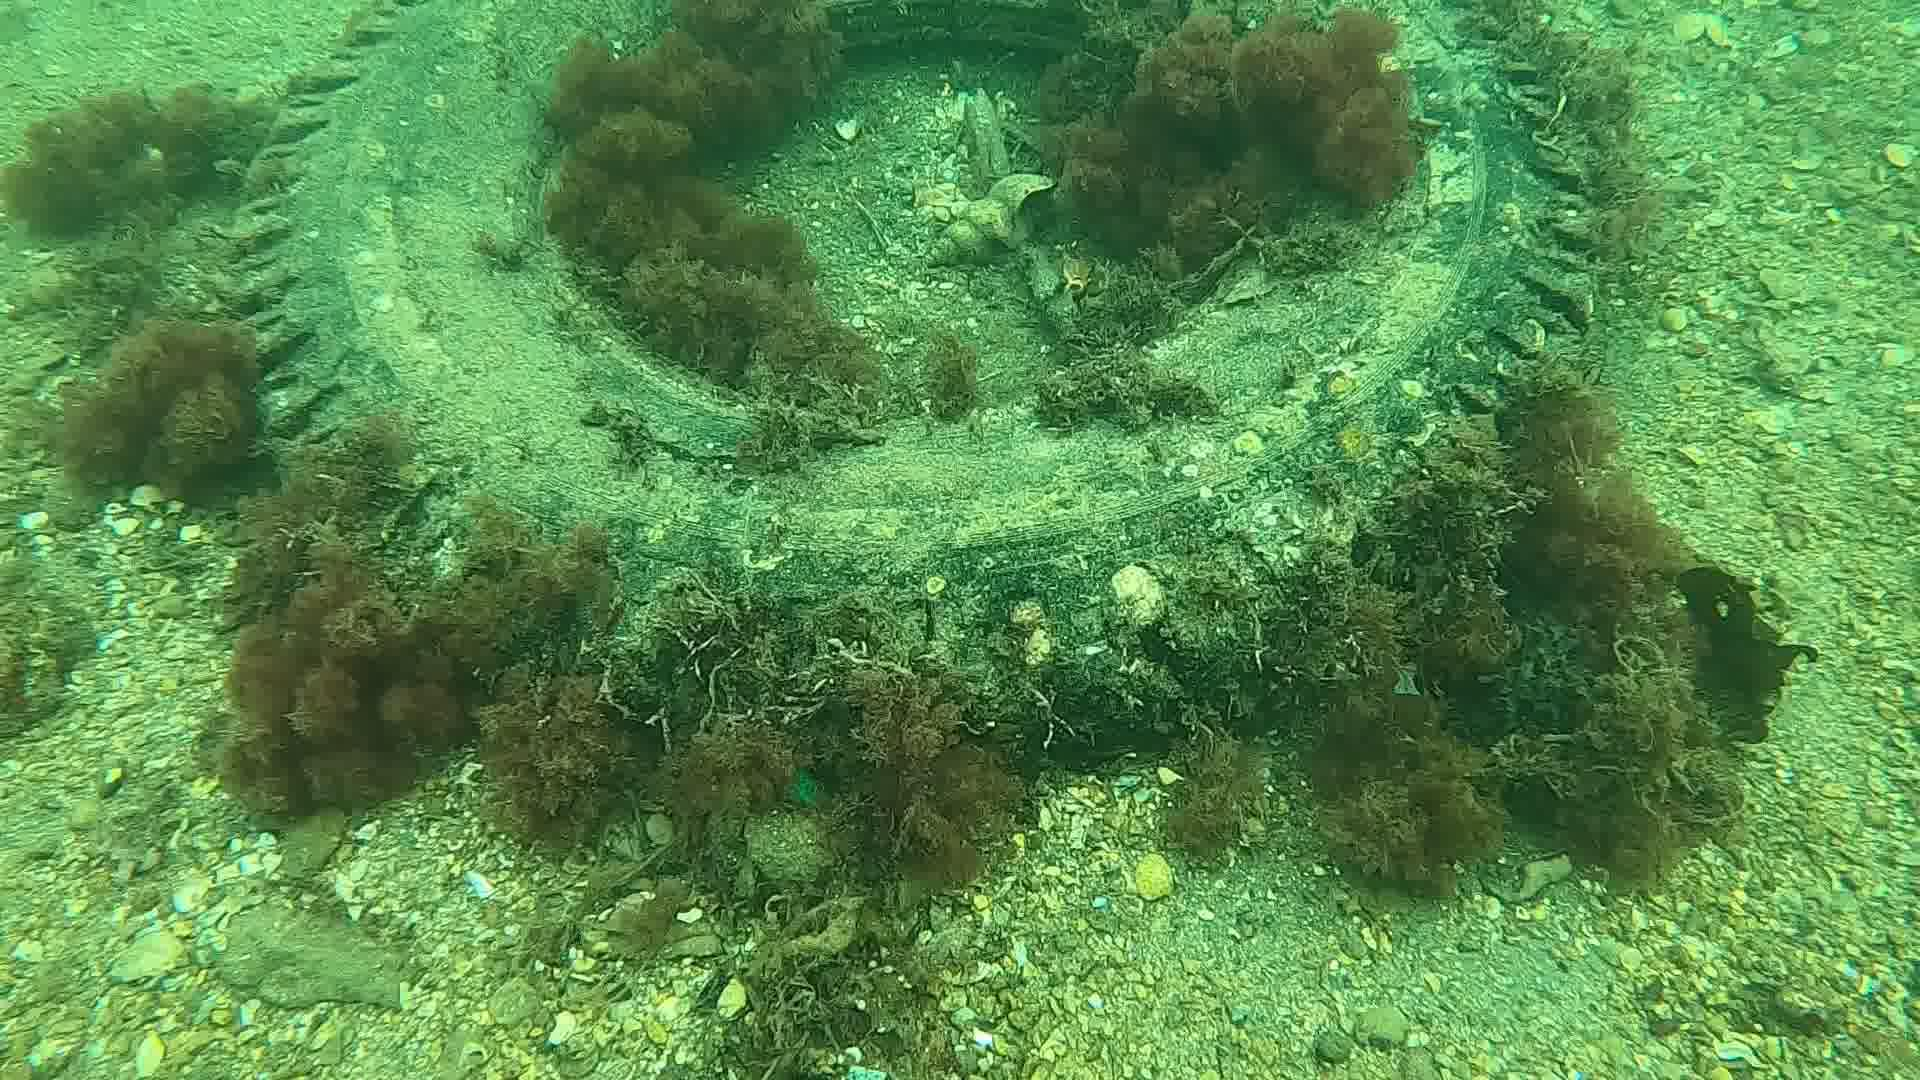tire: (224, 0, 1609, 777)
